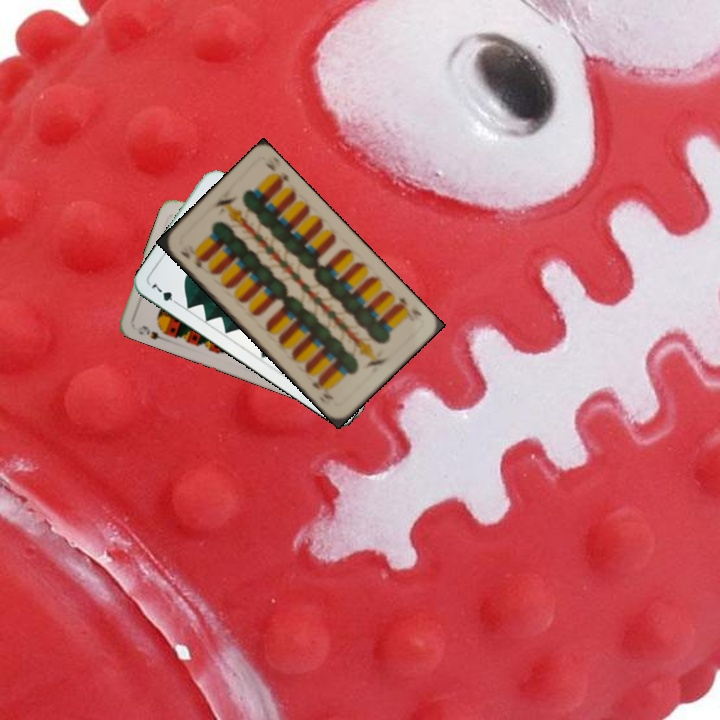E10: (391, 293, 424, 319), (176, 247, 207, 271)
G7: (147, 278, 182, 308)
S9: (135, 321, 172, 345)
